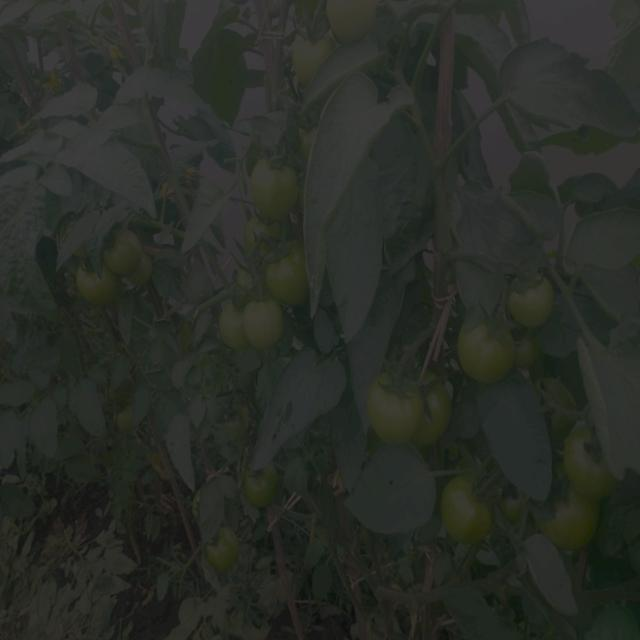tomato: (441, 462, 502, 551), (539, 482, 607, 558), (448, 319, 519, 385), (366, 370, 422, 448), (243, 157, 303, 225), (558, 425, 615, 491), (262, 244, 307, 315), (505, 271, 558, 330), (71, 256, 118, 309), (245, 301, 287, 355), (293, 22, 335, 76), (416, 377, 449, 442), (114, 227, 145, 291), (329, 1, 382, 35), (242, 466, 276, 511), (219, 295, 243, 352), (208, 529, 240, 567)
